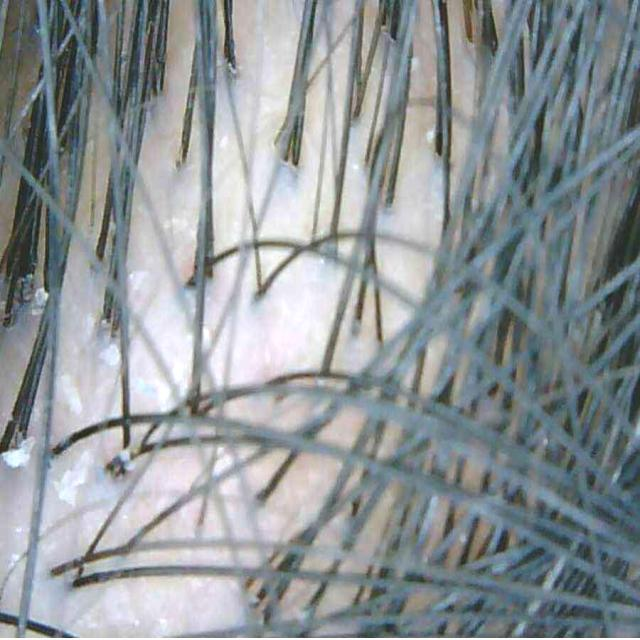d: (54, 450, 94, 506), (1, 436, 35, 468), (58, 374, 82, 415), (105, 448, 135, 478), (31, 287, 48, 315), (99, 344, 120, 366), (129, 272, 149, 290)
